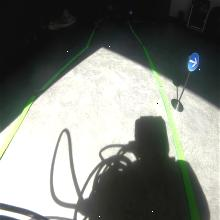right: (186, 51, 199, 72)
